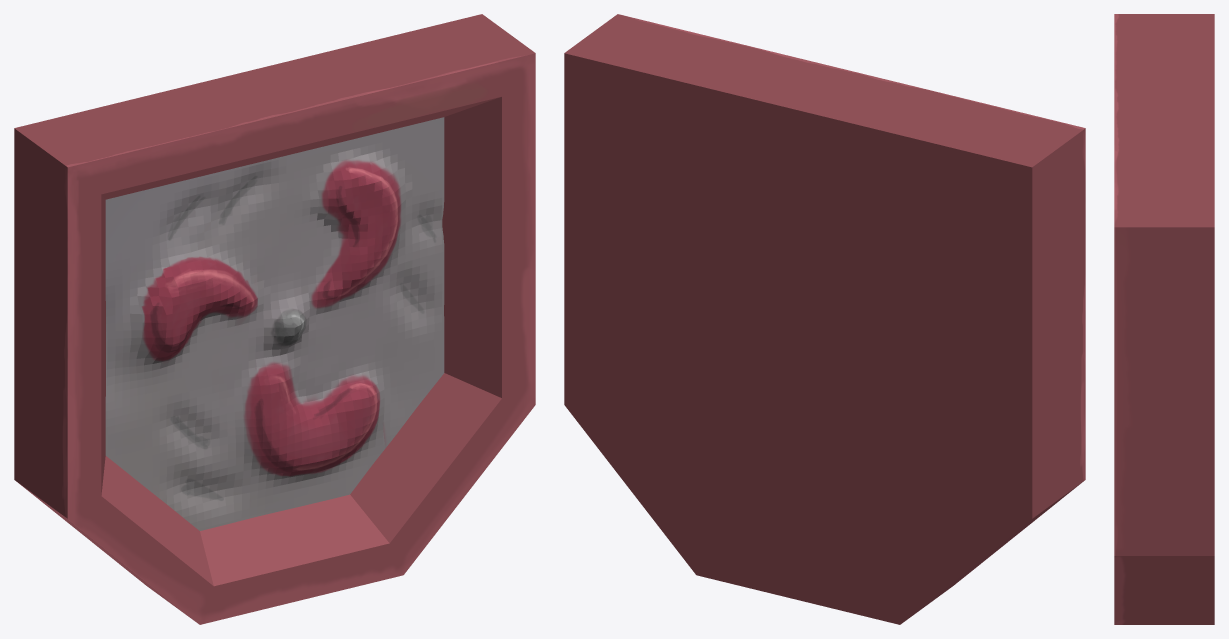
The model's file is WindChargeIcon.fbx.
The picture shows the model from 3 angles, left to right: view 1: azimuth 30°, elevation 25°; view 2: azimuth 150°, elevation 25°; view 3: azimuth 270°, elevation 25°; orthographic projection. The views are drawn at different scales.
Visible parts, largest first — view 1: Cube, Grid; view 2: Cube; view 3: Cube.
Part boxes in pixels (left/top/right/bottom): Cube: left=14, top=14, right=535, bottom=624; Grid: left=105, top=117, right=444, bottom=530; Cube: left=564, top=14, right=1085, bottom=624; Cube: left=1114, top=14, right=1214, bottom=624.
Size of the model in its own units: 200 by 200 by 39.67.
